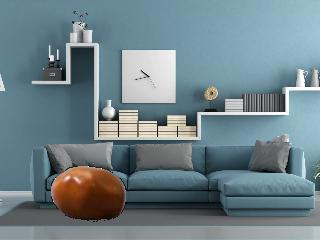potato: (48, 163, 128, 223)
